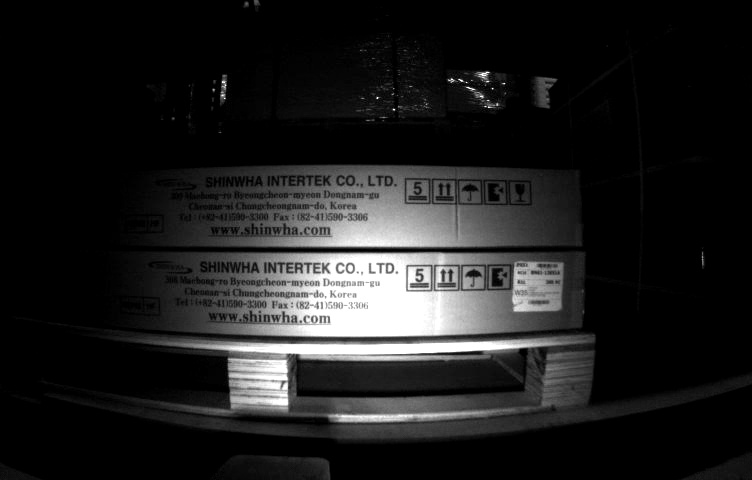True Barcode: (516, 260, 562, 313)
